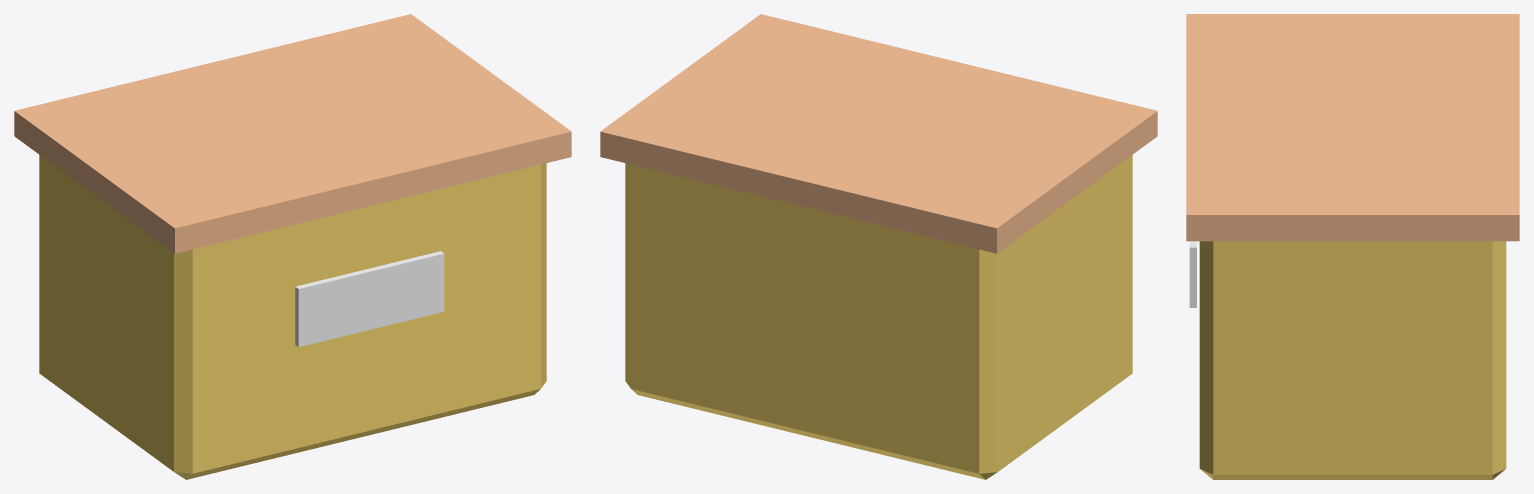
3 renders of one model, left to right at view 1: azimuth 30°, elevation 25°; view 2: azimuth 150°, elevation 25°; view 3: azimuth 270°, elevation 25°, orthographic. The views are drawn at different scales.
Visible parts, largest first — view 1: Box, Lid, Label; view 2: Box, Lid; view 3: Lid, Box, Label.
Boxes of the visible parts, x1,y1,x2,y2 form: Box: (39,155,546,479); Lid: (14,14,571,253); Label: (295,251,444,346); Box: (625,155,1132,479); Lid: (600,14,1157,253); Lid: (1186,14,1519,241); Box: (1199,241,1506,479); Label: (1189,241,1196,307).
Bounding box in the file's own units: 0.686 × 0.441 × 0.481.
Materials: 1 (1 with a texture image).
